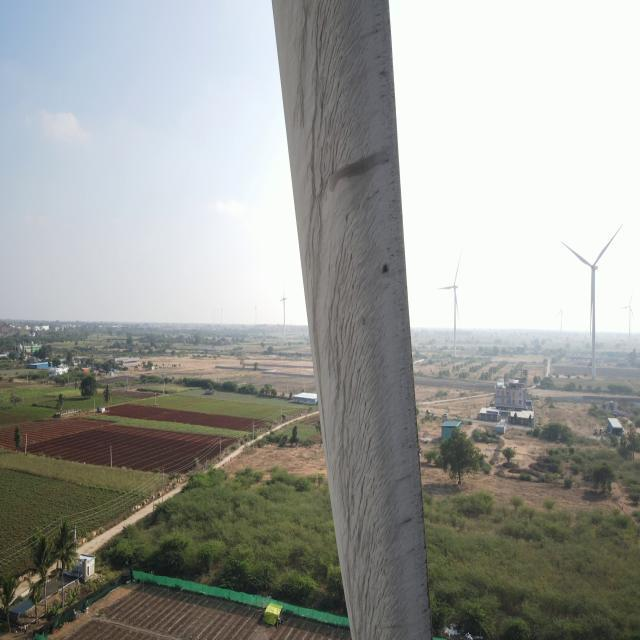Dirt: (300, 0, 405, 640)
